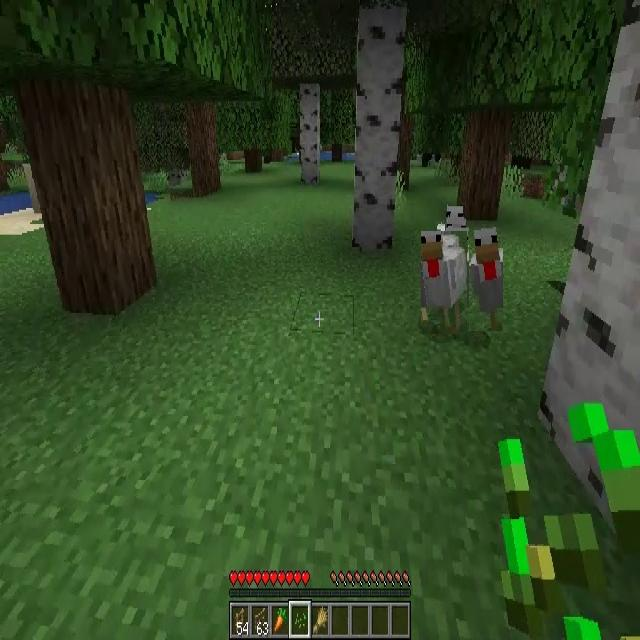duck: (421, 231, 467, 334), (469, 228, 503, 332)
